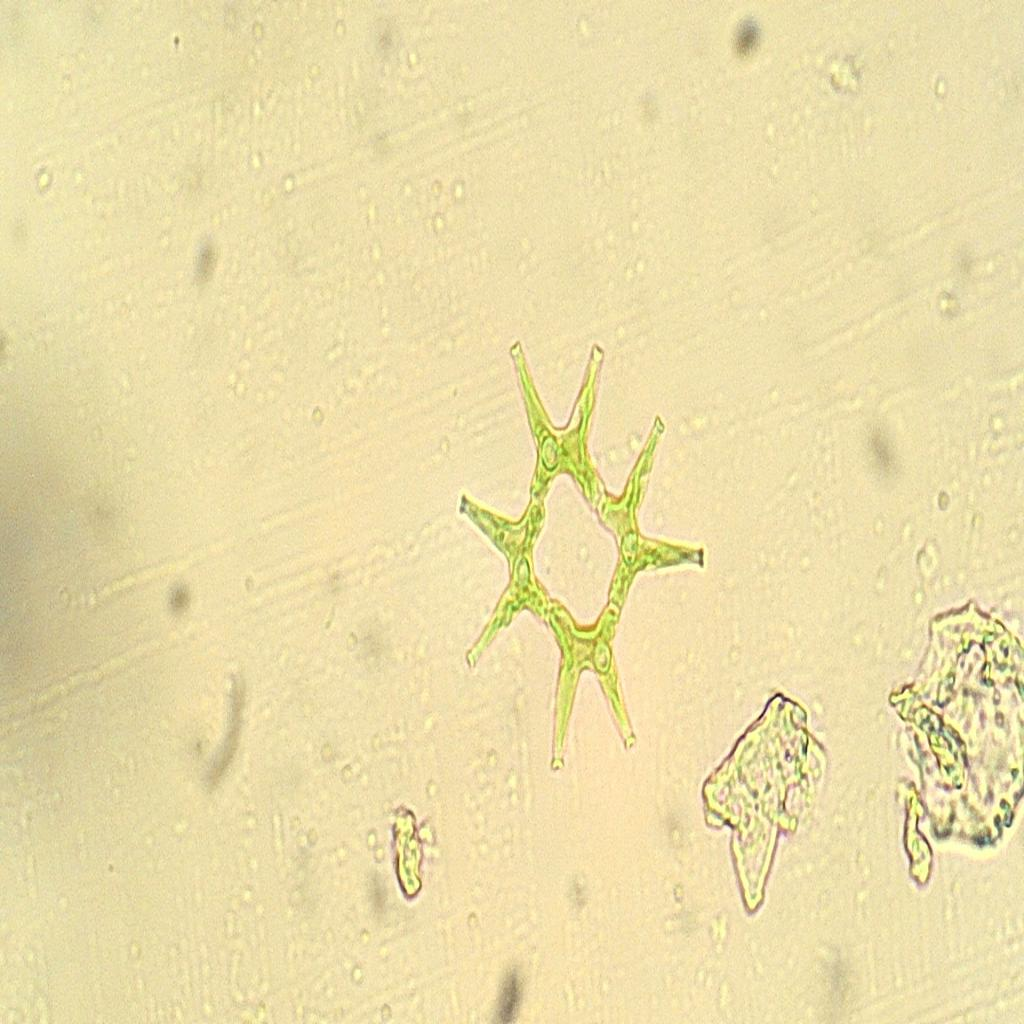Pediastrum_75O: (432, 313, 713, 792)
